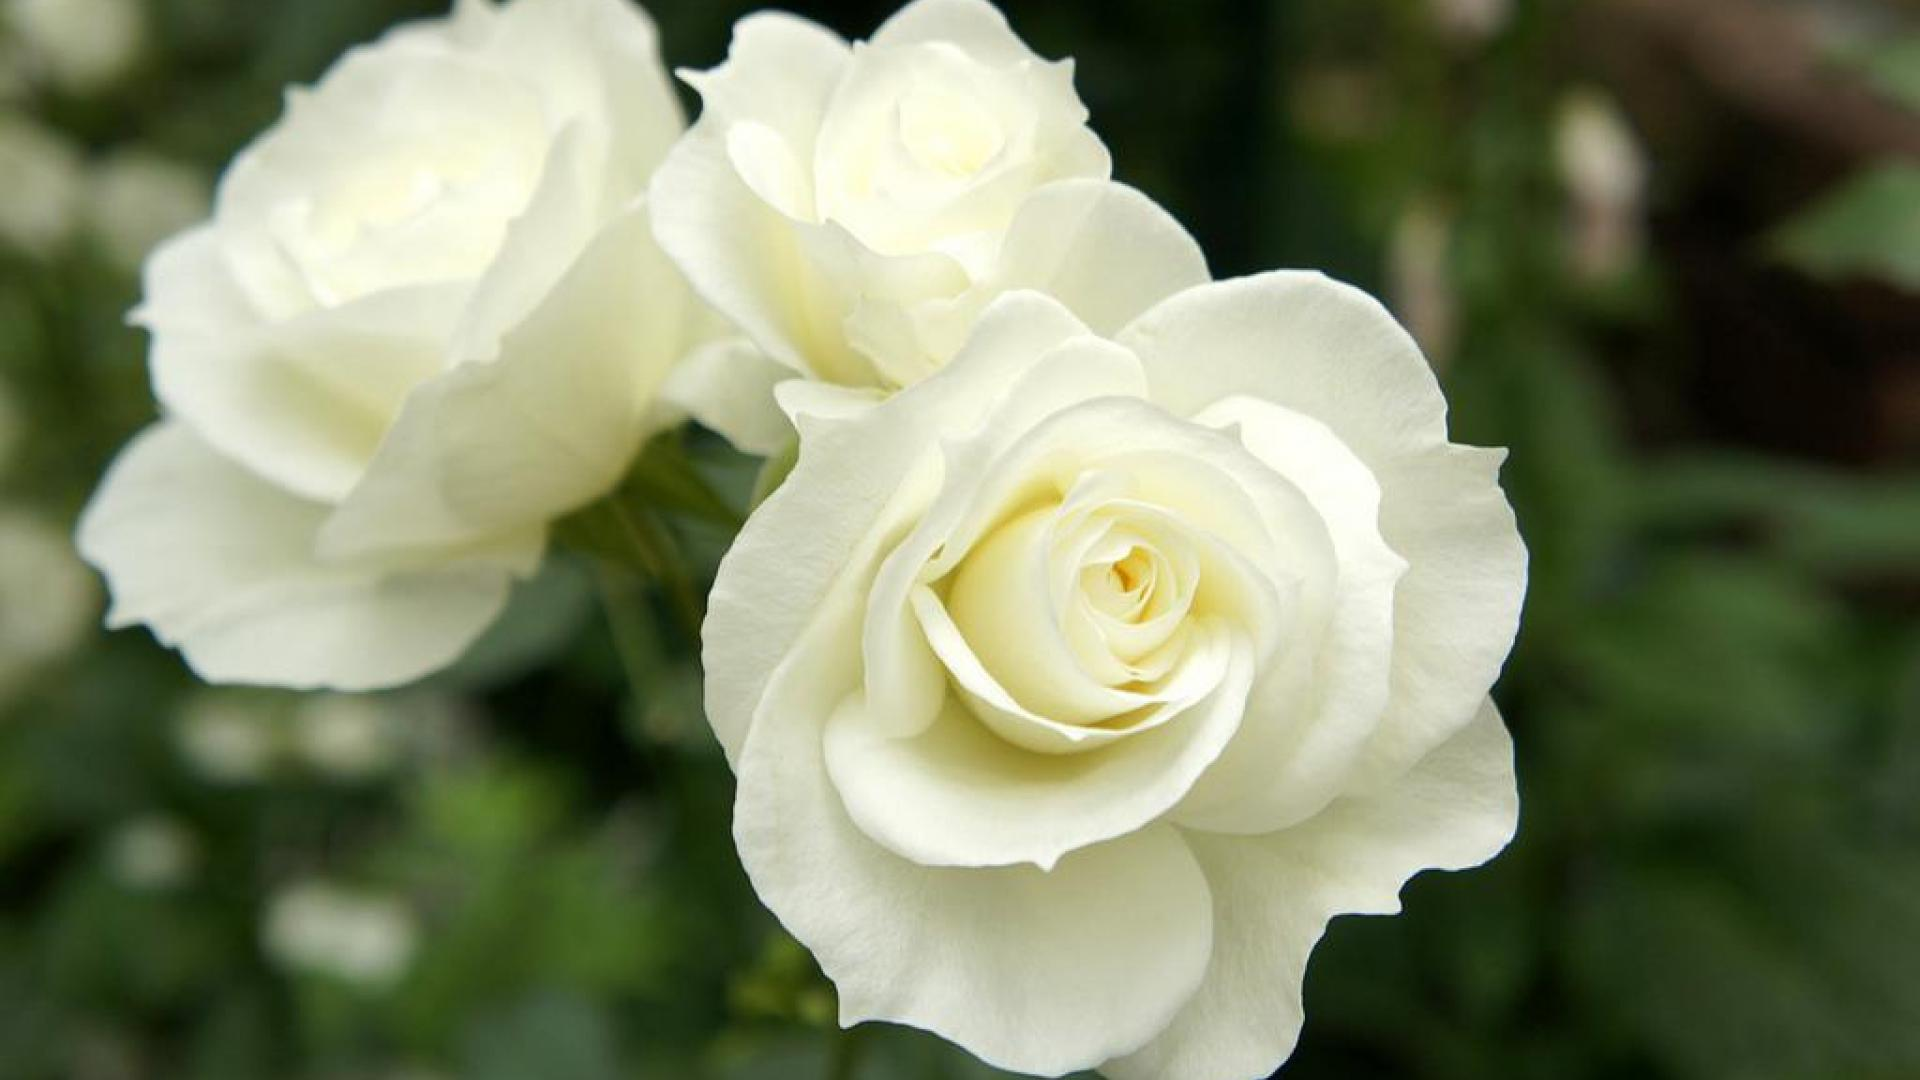Rose: (735, 324, 1510, 1058), (84, 12, 688, 640), (670, 0, 1118, 462)
